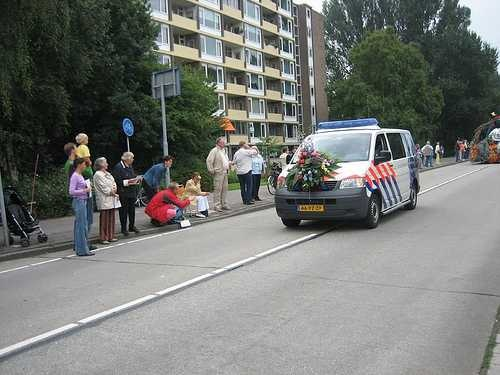Ambulance: (263, 112, 423, 226)
